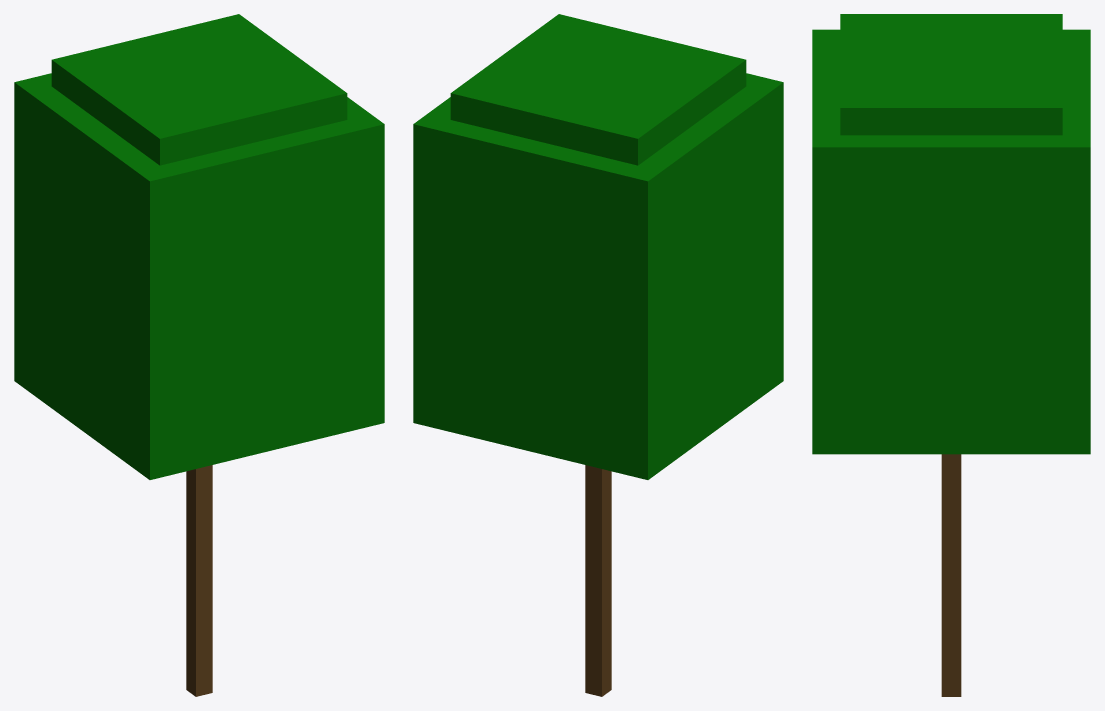
The model's file is Tree.fbx.
3 renders of one model, left to right at view 1: azimuth 30°, elevation 25°; view 2: azimuth 150°, elevation 25°; view 3: azimuth 270°, elevation 25°, orthographic. The views are drawn at different scales.
Parts seen in each view (by area): view 1: Tree; view 2: Tree; view 3: Tree.
Boxes of the visible parts, <box> form: Tree: <box>14,14,384,696</box>; Tree: <box>413,14,783,696</box>; Tree: <box>812,14,1090,696</box>.
Size of the model in its own units: 2.01 by 5.03 by 2.01.
